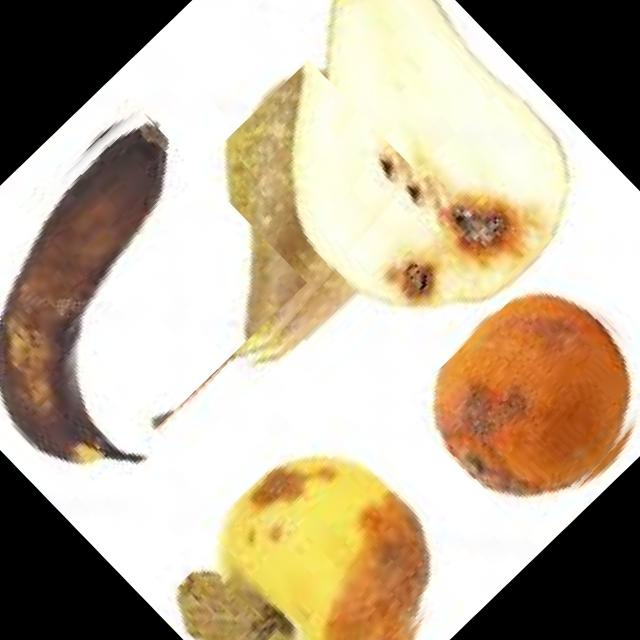Organic: (129, 0, 621, 366), (35, 59, 442, 462), (0, 93, 306, 497), (156, 408, 484, 640), (399, 255, 640, 540)
